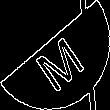M_NW: (25, 21, 85, 89)
